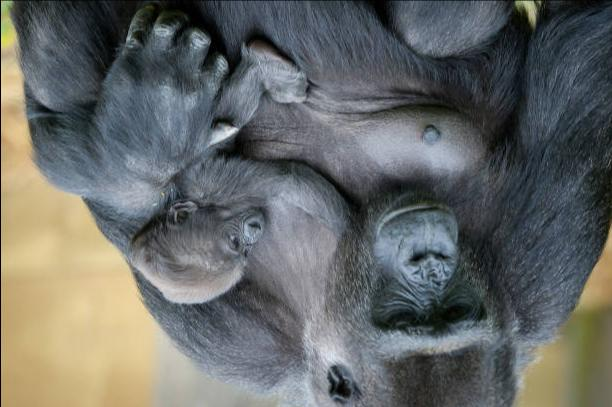gorille_Autres: (14, 0, 611, 407)
